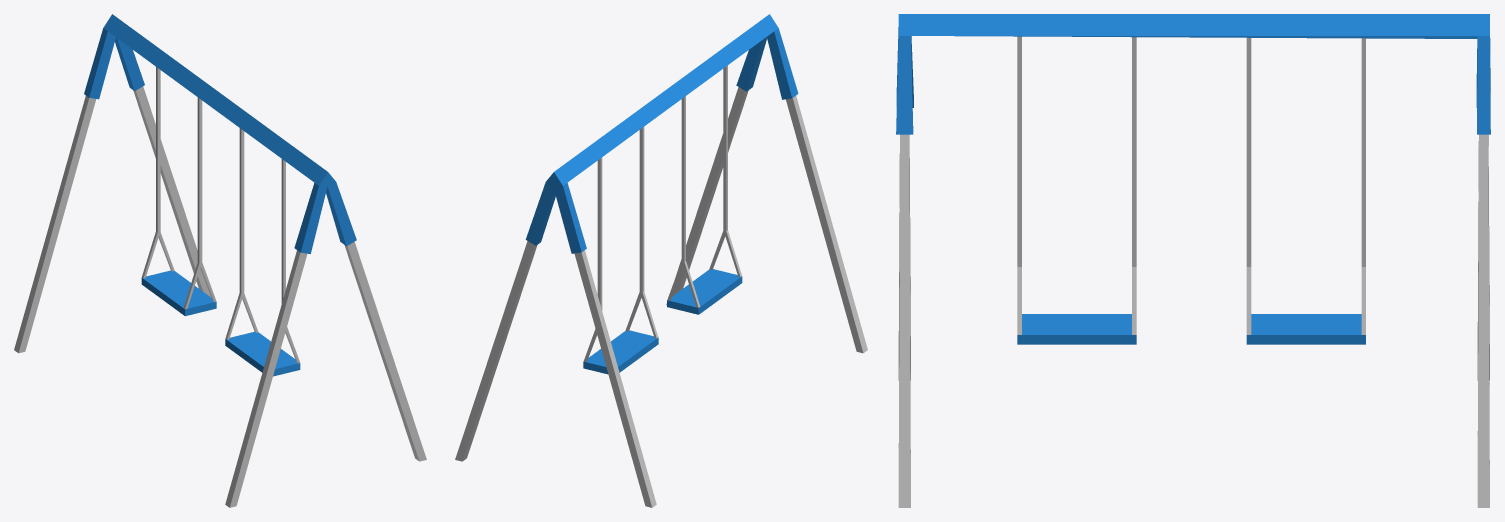
File: swings.glb
3 views of the same model, side by side, from view 1: azimuth 30°, elevation 25°; view 2: azimuth 150°, elevation 25°; view 3: azimuth 270°, elevation 25° (orthographic). The views are drawn at different scales.
Parts seen in each view (by area): view 1: Swings_0; view 2: Swings_0; view 3: Swings_0.
Boxes of the visible parts, <box> form: Swings_0: <box>14,14,426,507</box>; Swings_0: <box>455,14,867,507</box>; Swings_0: <box>896,14,1490,507</box>.
Bounding box in the file's own units: 27.2 × 41.13 × 51.82.
